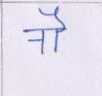au_matra: (46, 7, 69, 52)
